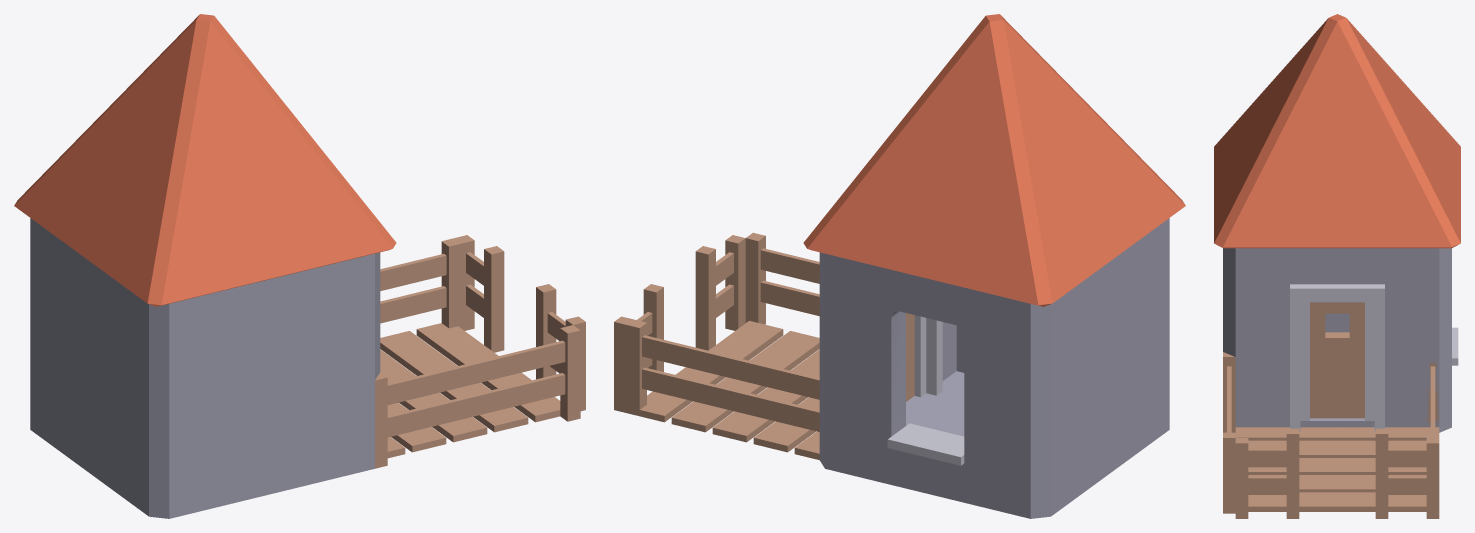
File: Simple house.fbx
3 views of the same model, side by side, from view 1: azimuth 30°, elevation 25°; view 2: azimuth 150°, elevation 25°; view 3: azimuth 270°, elevation 25° (orthographic). The views are drawn at different scales.
Parts seen in each view (by area): view 1: roof_point_0, wall_straight_5, wall_straight_1, fence_wood_9, planks_floor_10, fence_woodGate_7, fence_wood_8, floor_square_3, wall_doorwaySquare_2; view 2: roof_point_0, wall_windowSquare_4, wall_straight_1, planks_floor_10, fence_wood_8, fence_woodGate_7, floor_square_3, fence_wood_9, wall_doorwaySquare_2, door_square_6; view 3: roof_point_0, wall_doorwaySquare_2, planks_floor_10, door_square_6, fence_woodGate_7, fence_wood_9, floor_square_3, fence_wood_8, wall_straight_1.
Part boxes in pixels (bbox=[...]): roof_point_0: bbox=[14, 14, 396, 306]; wall_straight_5: bbox=[169, 253, 374, 518]; wall_straight_1: bbox=[30, 218, 169, 518]; fence_wood_9: bbox=[375, 325, 580, 468]; planks_floor_10: bbox=[380, 323, 560, 458]; fence_woodGate_7: bbox=[454, 235, 585, 411]; fence_wood_8: bbox=[380, 238, 461, 328]; floor_square_3: bbox=[30, 417, 374, 518]; wall_doorwaySquare_2: bbox=[375, 252, 380, 379]; roof_point_0: bbox=[803, 14, 1185, 306]; wall_windowSquare_4: bbox=[825, 253, 1030, 518]; wall_straight_1: bbox=[1030, 218, 1169, 518]; planks_floor_10: bbox=[631, 321, 819, 459]; fence_wood_8: bbox=[627, 319, 819, 431]; fence_woodGate_7: bbox=[614, 235, 745, 412]; floor_square_3: bbox=[819, 371, 1169, 518]; fence_wood_9: bbox=[745, 232, 819, 324]; wall_doorwaySquare_2: bbox=[819, 252, 956, 467]; door_square_6: bbox=[906, 313, 926, 401]; roof_point_0: bbox=[1214, 14, 1460, 248]; wall_doorwaySquare_2: bbox=[1223, 248, 1451, 432]; planks_floor_10: bbox=[1235, 427, 1439, 511]; door_square_6: bbox=[1300, 298, 1374, 425]; fence_woodGate_7: bbox=[1235, 428, 1439, 518]; fence_wood_9: bbox=[1223, 352, 1235, 513]; floor_square_3: bbox=[1236, 418, 1451, 431]; fence_wood_8: bbox=[1426, 360, 1439, 437]; wall_straight_1: bbox=[1325, 313, 1349, 332].
Bounding box in the file's own units: 21.68 × 19.86 × 12.11.
